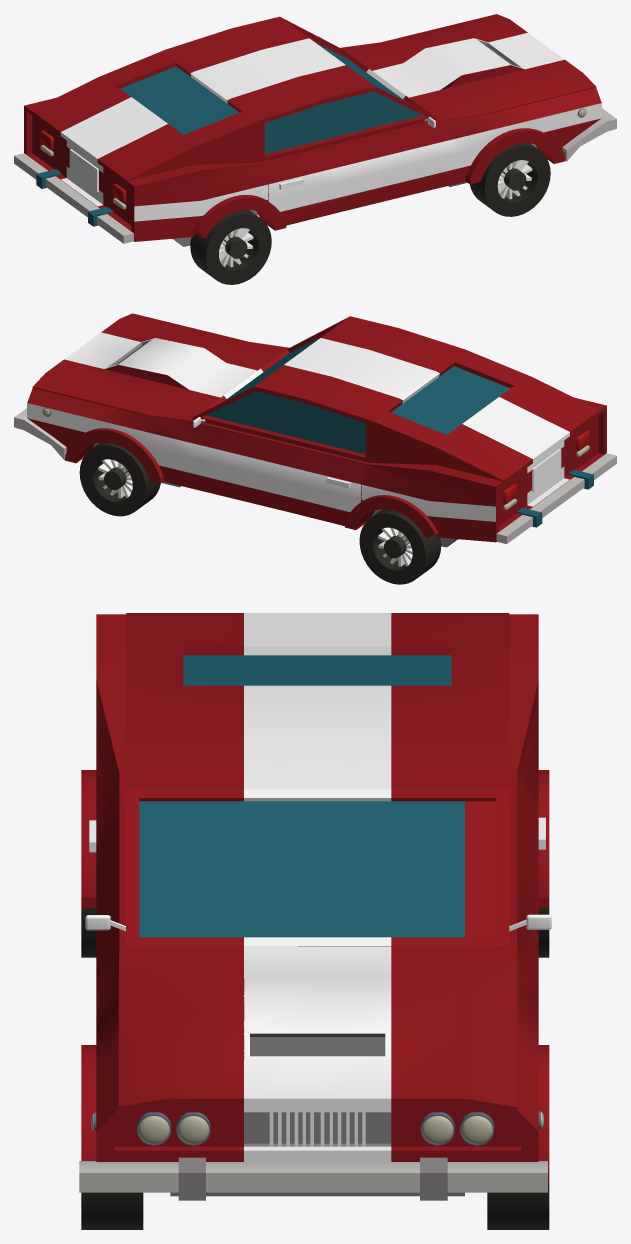
The model's file is 2019_05_02_car_low_poly_2_1.obj.
3 renders of one model, top to bottom at view 1: azimuth 30°, elevation 25°; view 2: azimuth 150°, elevation 25°; view 3: azimuth 270°, elevation 25°, orthographic. The views are drawn at different scales.
Visible parts, largest first — view 1: Tube_4; view 2: Tube_4; view 3: Tube_4.
Part boxes in pixels (x1,y1,x2,y2): Tube_4: [14, 14, 616, 284]; Tube_4: [14, 313, 616, 584]; Tube_4: [79, 613, 551, 1229].
Bounding box in the file's own units: 6.24 × 1.83 × 2.57.
